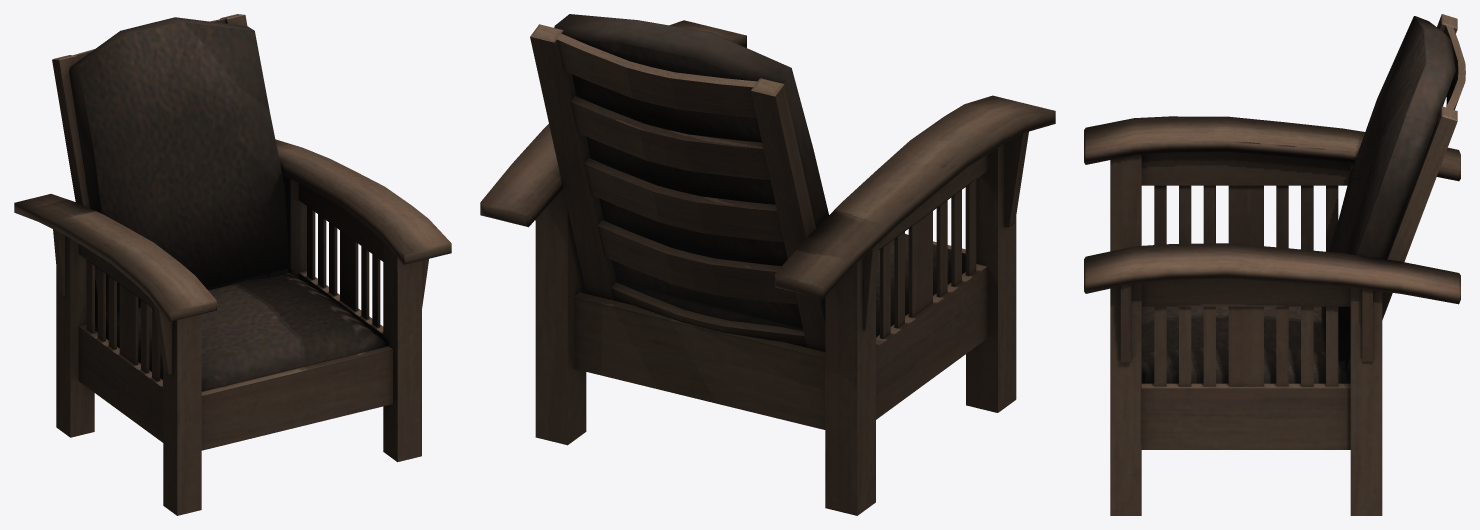
The picture shows the model from 3 angles, left to right: view 1: azimuth 30°, elevation 25°; view 2: azimuth 150°, elevation 25°; view 3: azimuth 270°, elevation 25°; orthographic projection. The views are drawn at different scales.
Parts seen in each view (by area): view 1: Cube.003; view 2: Cube.003; view 3: Cube.003.
Part boxes in pixels (x1,y1,x2,y2): Cube.003: (14,14,451,515); Cube.003: (480,14,1055,515); Cube.003: (1084,14,1465,515).
Bounding box in the file's own units: 0.1609 × 0.195 × 0.1672.
1 material, 1 textured.
